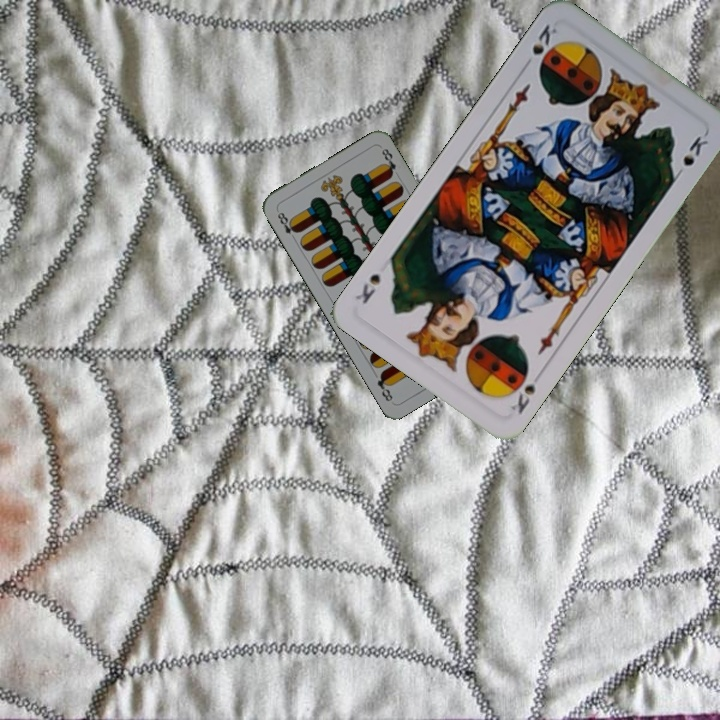E8: (273, 206, 301, 243)
SK: (507, 366, 546, 417), (528, 20, 560, 58)
